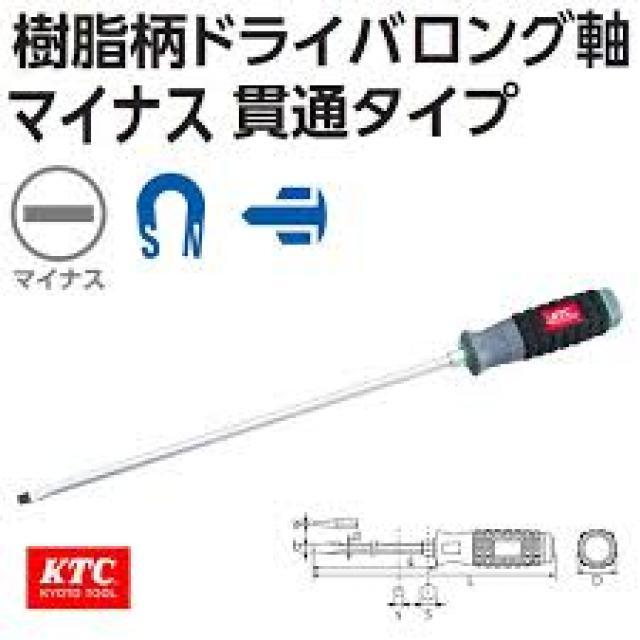screwdriver: (11, 284, 626, 506)
